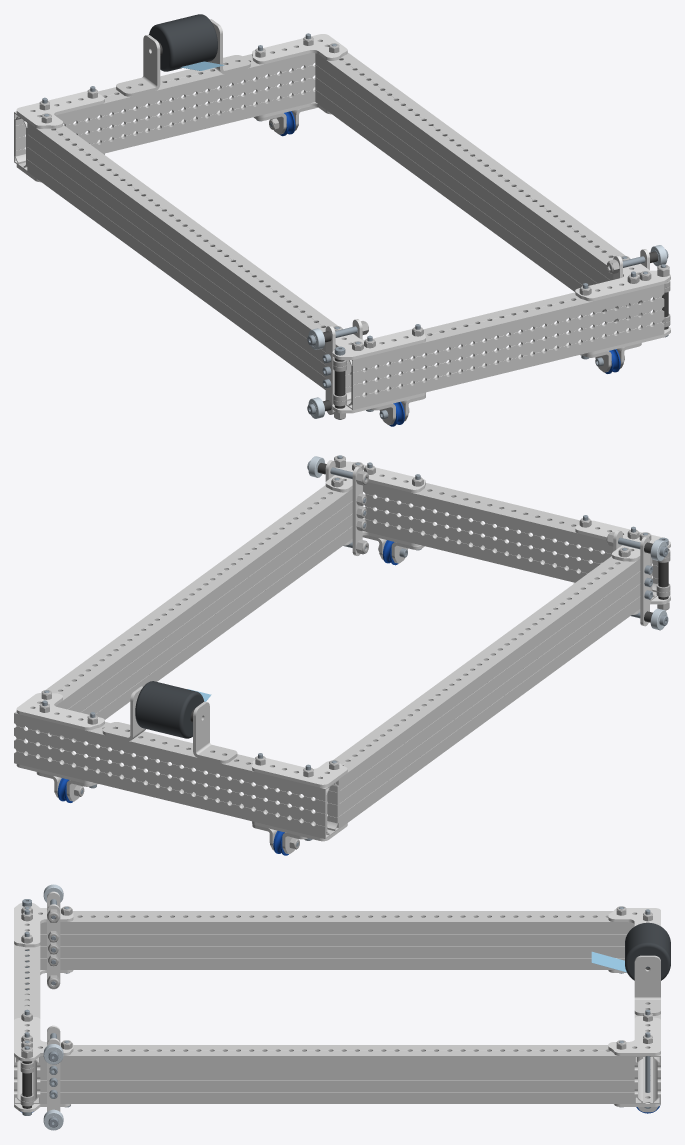
3 renders of one model, top to bottom at view 1: azimuth 30°, elevation 25°; view 2: azimuth 150°, elevation 25°; view 3: azimuth 270°, elevation 25°, orthographic. The views are drawn at different scales.
Parts seen in each view (by area): view 1: Stage3 Post (×2), MAXTube, 1x1x47" (×2), Gusset - 90 - 2x4 (×2), CF_Spring_Drum, Slider Corner Plate (×2), CF_Spring_Bracket (×2); view 2: Stage3 Post (×2), MAXTube, 1x1x47" (×2), Gusset - 90 - 2x4 (×2), CF_Spring_Drum, Slider Corner Plate (×2), CF_Spring_Bracket (×2), Guide Plate (×2); view 3: Stage3 Post (×2), MAXTube, 1x1x47" (×2), Slider Corner Plate (×2), Gusset - 90 - 2x4 (×2), CF_Spring_Drum, CF_Spring_Bracket, Guide Plate (×2), SH16P40.
Part boxes in pixels (left/top/right/bottom): Stage3 Post (×2): left=27, top=52, right=650, bottom=389; MAXTube, 1x1x47" (×2): left=14, top=53, right=664, bottom=409; Gusset - 90 - 2x4 (×2): left=16, top=34, right=347, bottom=128; CF_Spring_Drum: left=149, top=14, right=217, bottom=71; Slider Corner Plate (×2): left=332, top=263, right=670, bottom=360; CF_Spring_Bracket (×2): left=116, top=19, right=250, bottom=96; Stage3 Post (×2): left=28, top=485, right=650, bottom=828; MAXTube, 1x1x47" (×2): left=14, top=482, right=658, bottom=838; Gusset - 90 - 2x4 (×2): left=16, top=693, right=347, bottom=787; CF_Spring_Drum: left=135, top=681, right=204, bottom=738; Slider Corner Plate (×2): left=325, top=461, right=670, bottom=561; CF_Spring_Bracket (×2): left=102, top=686, right=237, bottom=763; Guide Plate (×2): left=352, top=466, right=649, bottom=626; Stage3 Post (×2): left=40, top=911, right=634, bottom=1103; MAXTube, 1x1x47" (×2): left=14, top=944, right=660, bottom=1103; Slider Corner Plate (×2): left=14, top=903, right=73, bottom=1061; Gusset - 90 - 2x4 (×2): left=608, top=908, right=660, bottom=1055; CF_Spring_Drum: left=625, top=922, right=670, bottom=980; CF_Spring_Bracket: left=634, top=955, right=660, bottom=1015; Guide Plate (×2): left=47, top=904, right=60, bottom=1111; SH16P40: left=591, top=951, right=626, bottom=972.
Size of the model in its own units: 0.3779 by 0.1397 by 0.6318.
